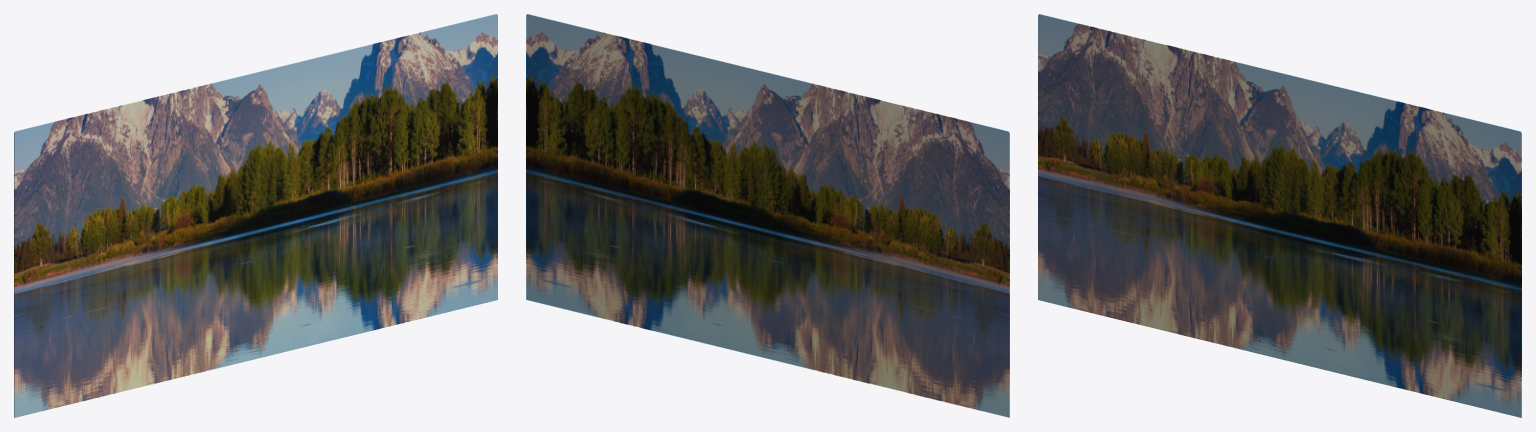
Rendered from pantalla.obj.
3 renders of one model, left to right at view 1: azimuth 30°, elevation 25°; view 2: azimuth 150°, elevation 25°; view 3: azimuth 330°, elevation 25°, orthographic.
Parts seen in each view (by area): view 1: Screen_glass; view 2: Screen_glass; view 3: Screen_glass.
Boxes of the visible parts, bbox=[...] form: Screen_glass: bbox=[14, 14, 497, 417]; Screen_glass: bbox=[526, 14, 1009, 417]; Screen_glass: bbox=[1038, 14, 1521, 417].
Bounding box in the file's own units: 1.66 × 0.9378 × 0.00268.
1 material, 1 textured.
